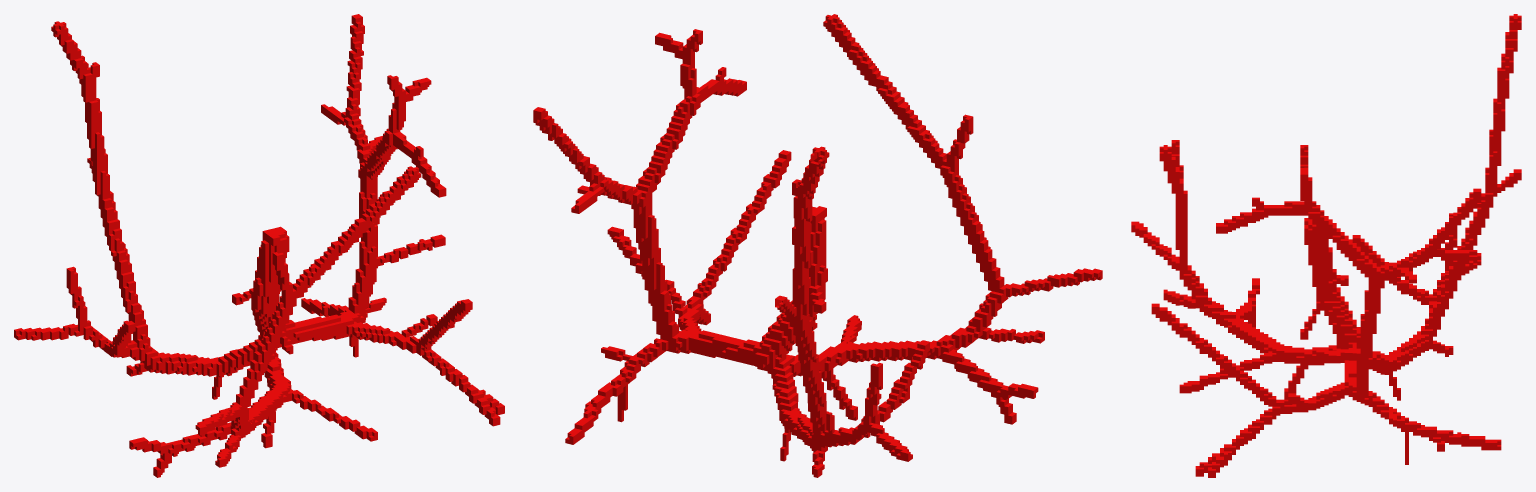
File: ref.obj
3 renders of one model, left to right at view 1: azimuth 30°, elevation 25°; view 2: azimuth 150°, elevation 25°; view 3: azimuth 270°, elevation 25°, orthographic. The views are drawn at different scales.
Parts seen in each view (by area): view 1: anObject; view 2: anObject; view 3: anObject.
Part boxes in pixels (x1,y1,x2,y2): anObject: [14, 14, 504, 477]; anObject: [533, 14, 1102, 477]; anObject: [1131, 14, 1521, 477].
Bounding box in the file's own units: 97 × 94 × 97.
